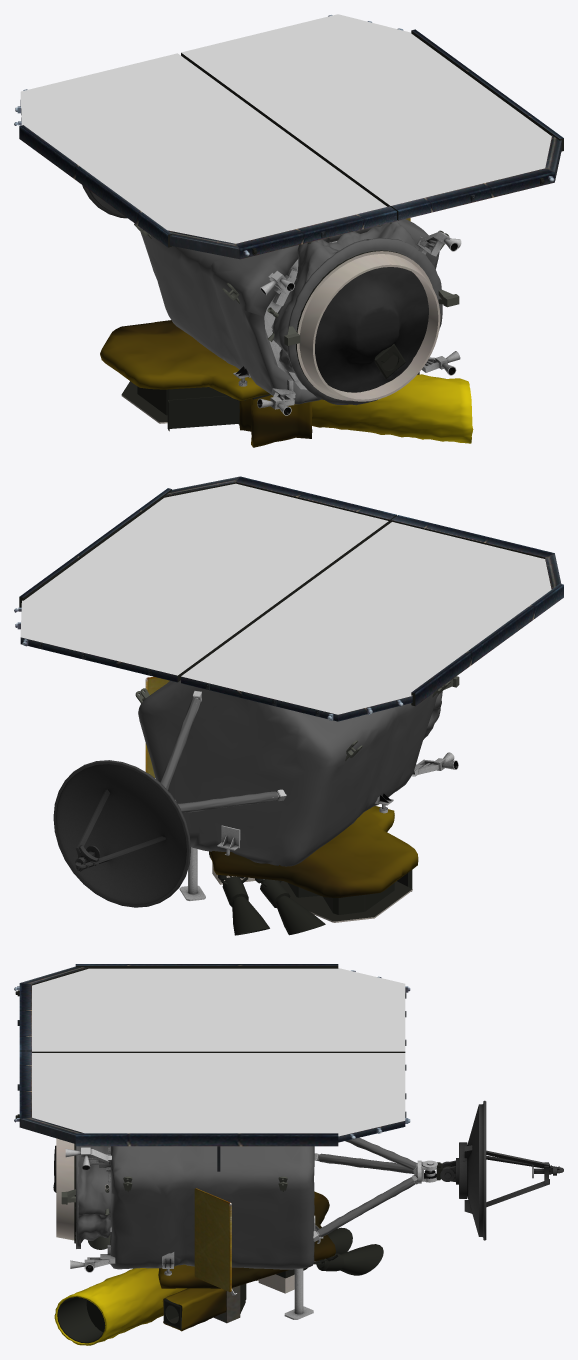
The model's file is EPOXI.glb.
The picture shows the model from 3 angles, top to bottom: view 1: azimuth 30°, elevation 25°; view 2: azimuth 150°, elevation 25°; view 3: azimuth 270°, elevation 25°; orthographic projection. The views are drawn at different scales.
Visible parts, largest first — view 1: shiny_panels, foil_gold, tex_01, black_krinkle, foil_silver_I, tex_01_I, black_krinkle_I, hole_AO; view 2: shiny_panels, black_krinkle, tex_01, dish_AO, foil_gold, hole_AO; view 3: shiny_panels, black_krinkle, tex_01, foil_gold, dish_AO, hole_AO, black_krinkle_I, tex_01_I.
Boxes of the visible parts, x1,y1,x2,y2 form: shiny_panels: (20,14,551,243); foil_gold: (100,320,473,447); tex_01: (14,15,563,431); black_krinkle: (140,219,439,404); foil_silver_I: (315,267,428,392); tex_01_I: (267,222,459,401); black_krinkle_I: (272,221,442,405); hole_AO: (233,231,461,415); shiny_panels: (20,483,551,714); black_krinkle: (138,680,438,866); tex_01: (14,476,563,935); dish_AO: (53,760,190,907); foil_gold: (209,806,418,897); hole_AO: (175,691,458,900); shiny_panels: (32,968,405,1136); black_krinkle: (110,1137,415,1269); tex_01: (14,964,450,1343); foil_gold: (54,1191,335,1345); dish_AO: (440,1100,563,1240); hole_AO: (65,1147,437,1319); black_krinkle_I: (75,1146,111,1248); tex_01_I: (56,1138,110,1249).
Size of the model in its own units: 2.88 by 1.99 by 3.91.
9 materials, 6 textured.
